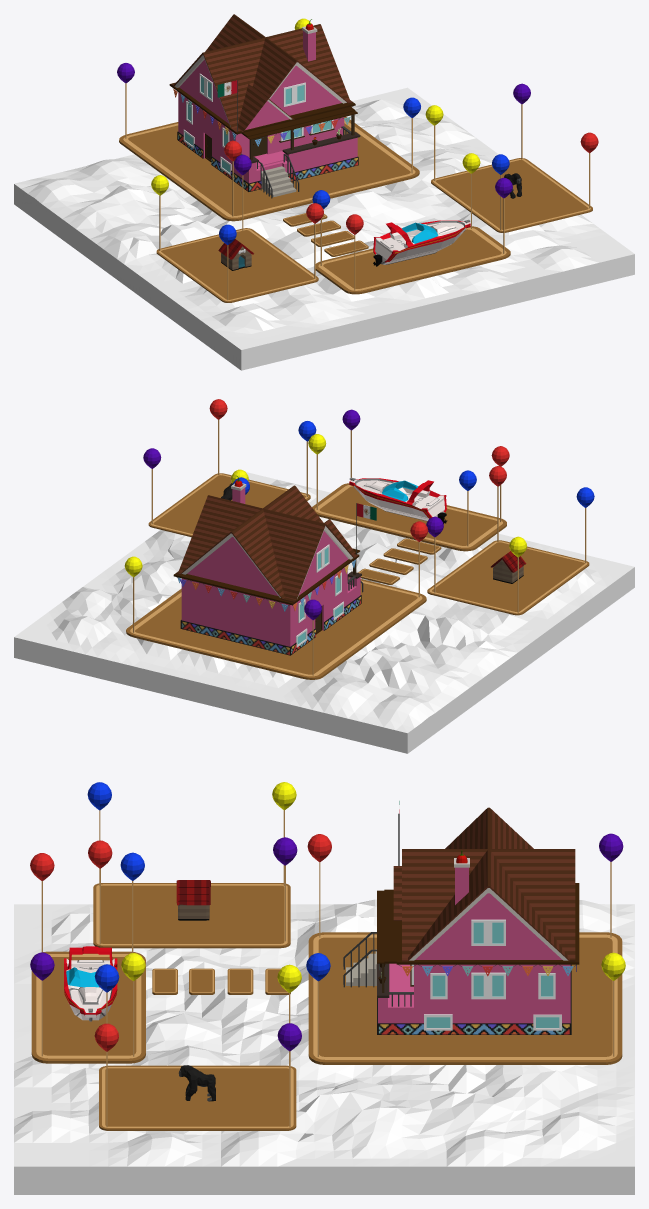
The picture shows the model from 3 angles, top to bottom: view 1: azimuth 30°, elevation 25°; view 2: azimuth 150°, elevation 25°; view 3: azimuth 270°, elevation 25°; orthographic projection. The views are drawn at different scales.
Visible parts, largest first — view 1: Cube.013, Cube.1005, VEHICLES_BOAT, OBJRANDOM_DOGHOUSE; view 2: Cube.013, Cube.1005, VEHICLES_BOAT, OBJRANDOM_DOGHOUSE; view 3: Cube.013, Cube.1005, VEHICLES_BOAT, OBJRANDOM_DOGHOUSE, ANIMAL_GORILA.
Boxes of the visible parts, bbox=[...] form: Cube.013: bbox=[14, 18, 634, 370]; Cube.1005: bbox=[169, 14, 360, 198]; VEHICLES_BOAT: bbox=[373, 219, 470, 266]; OBJRANDOM_DOGHOUSE: bbox=[218, 239, 253, 270]; Cube.013: bbox=[14, 399, 634, 753]; Cube.1005: bbox=[173, 476, 376, 655]; VEHICLES_BOAT: bbox=[349, 477, 447, 523]; OBJRANDOM_DOGHOUSE: bbox=[491, 551, 526, 583]; Cube.013: bbox=[14, 782, 634, 1194]; Cube.1005: bbox=[343, 801, 579, 1034]; VEHICLES_BOAT: bbox=[64, 946, 117, 1021]; OBJRANDOM_DOGHOUSE: bbox=[176, 880, 210, 920]; ANIMAL_GORILA: bbox=[178, 1065, 215, 1101].
Bounding box in the file's own units: 4000 × 1777 × 4000.
Materials: 68 (3 with a texture image).
